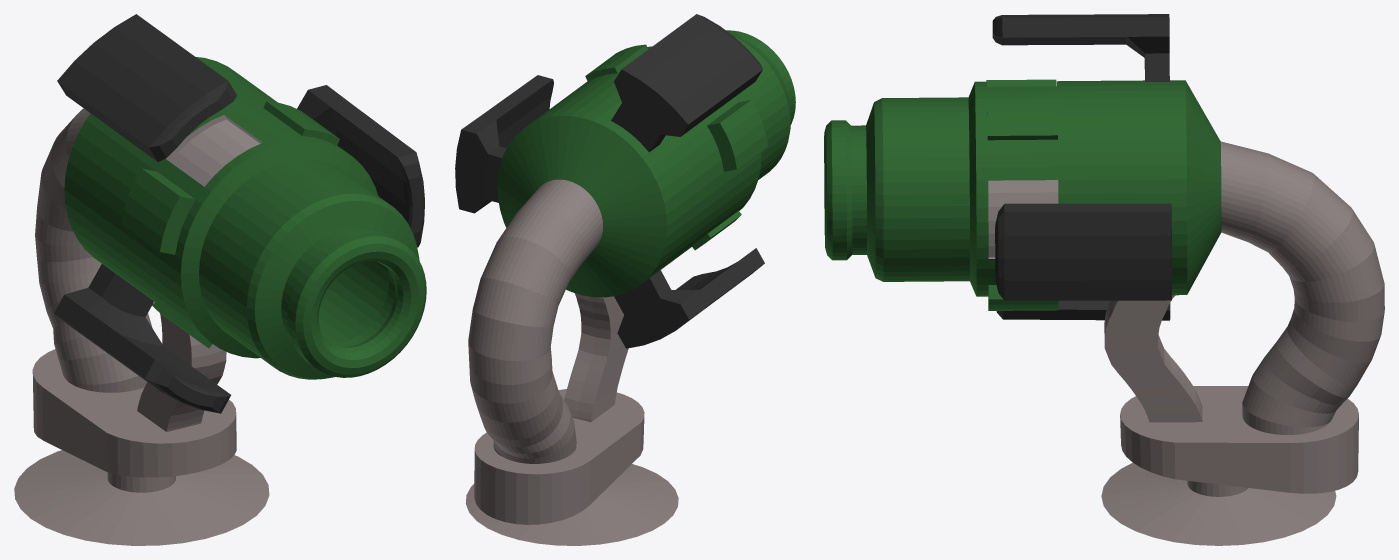
The model's file is Blaster000.fbx.
3 renders of one model, left to right at view 1: azimuth 30°, elevation 25°; view 2: azimuth 150°, elevation 25°; view 3: azimuth 270°, elevation 25°, orthographic. The views are drawn at different scales.
Parts seen in each view (by area): view 1: Turret; view 2: Turret; view 3: Turret.
Boxes of the visible parts, x1,y1,x2,y2 form: Turret: (14, 14, 426, 545); Turret: (455, 14, 795, 545); Turret: (824, 14, 1384, 545).
Bounding box in the file's own units: 516 × 890 × 973.
